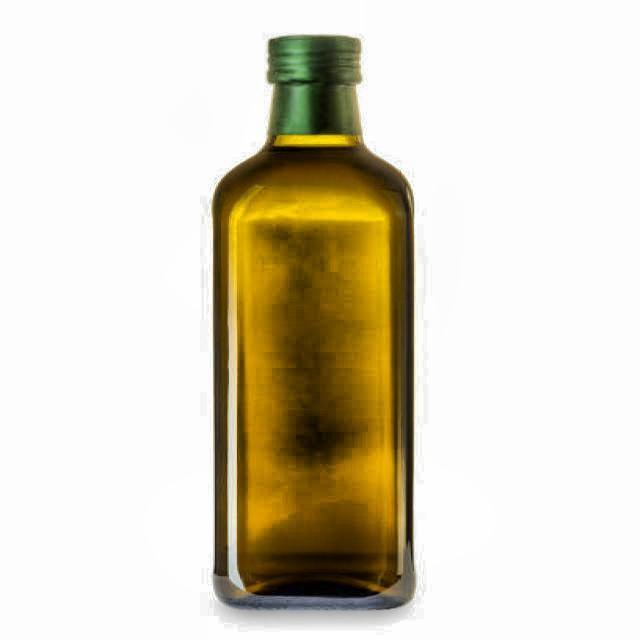glass: (212, 35, 418, 615)
